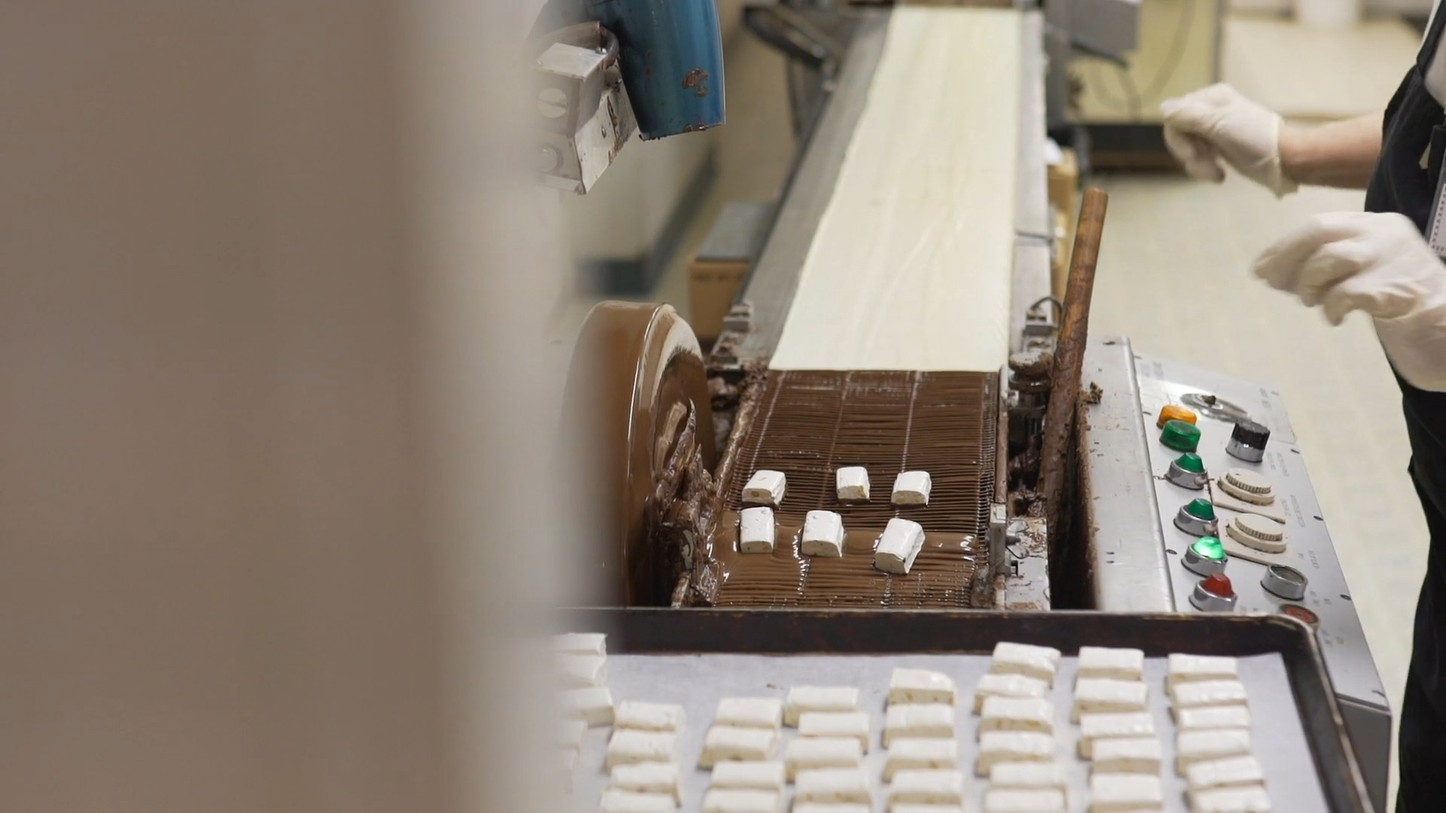gloves: (1246, 190, 1446, 417), (1134, 48, 1310, 203)
